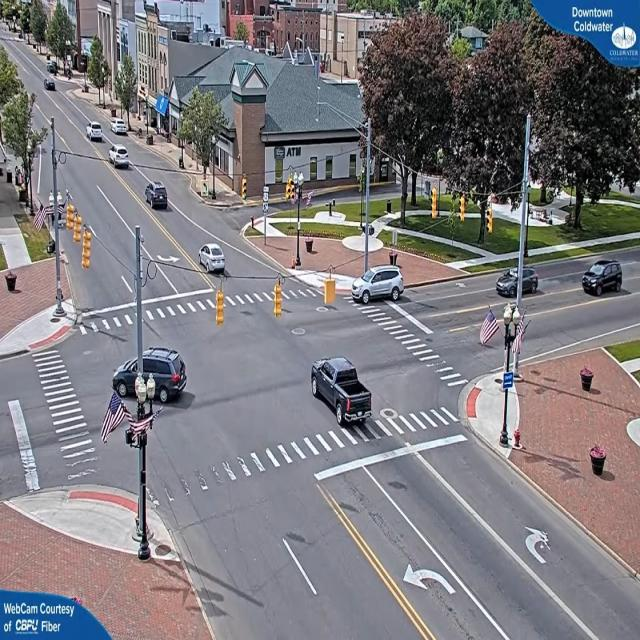car: (309, 358, 374, 428), (115, 344, 188, 406), (356, 267, 404, 304), (583, 259, 626, 298), (196, 244, 226, 275), (146, 184, 171, 211), (496, 272, 519, 300), (110, 149, 133, 170), (86, 123, 104, 142), (111, 118, 129, 136), (46, 80, 58, 93)
